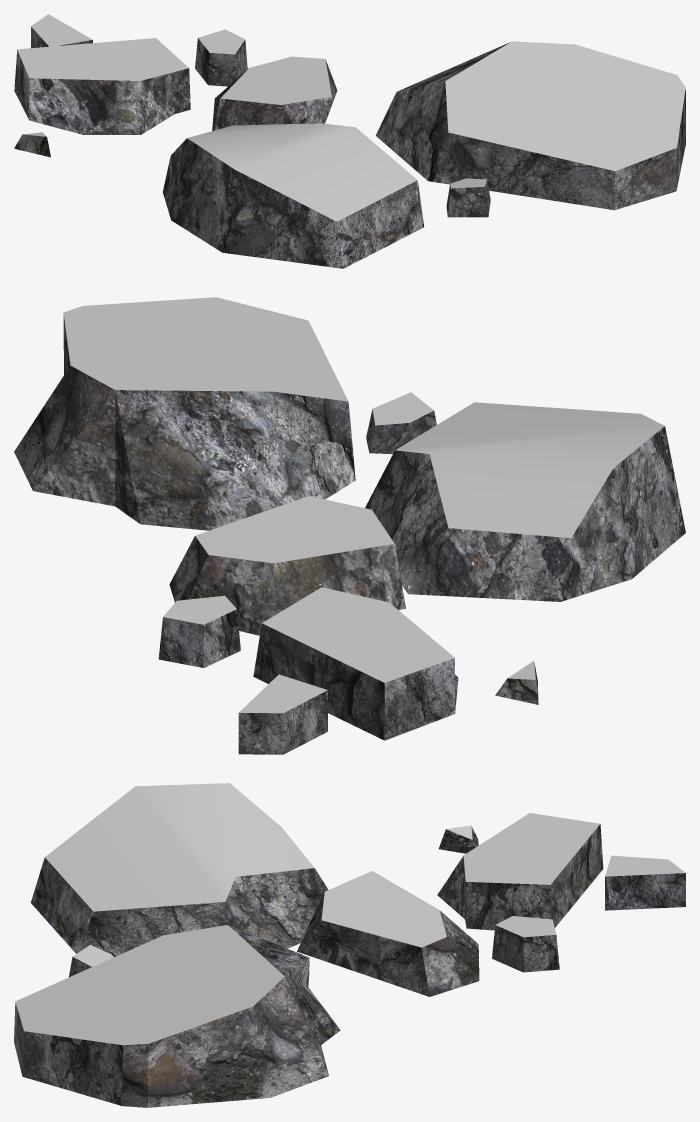
File: Debris_small3_LOD0.fbx
The picture shows the model from 3 angles, top to bottom: view 1: azimuth 30°, elevation 25°; view 2: azimuth 150°, elevation 25°; view 3: azimuth 270°, elevation 25°; orthographic projection. The views are drawn at different scales.
Visible parts, largest first — view 1: polySurface81; view 2: polySurface81; view 3: polySurface81.
Boxes of the visible parts, x1=… form: polySurface81: x1=14, y1=14, x2=685, y2=268; polySurface81: x1=14, y1=297, x2=685, y2=754; polySurface81: x1=14, y1=783, x2=685, y2=1107.
Size of the model in its own units: 2.35 by 0.3524 by 2.47.
